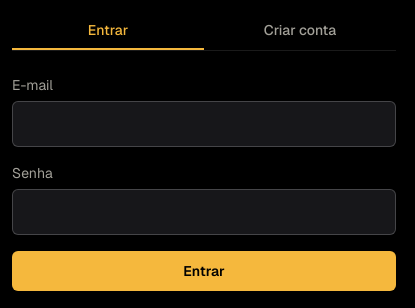
começa em Entrar e alterna para Criar conta
What coordinates should you click on to do the following:
click the tab "Criar conta"
I would click on:
 (300, 31)
Its box is top-left (204, 12), bottom-right (396, 50).
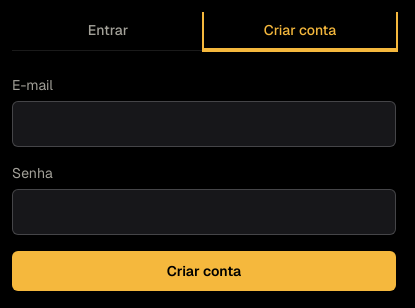
expect the tab "Criar conta" is selected: met, box top-left (204, 12), bottom-right (396, 50)
expect the tab "Entrar" is not selected: met, box top-left (12, 12), bottom-right (204, 50)
